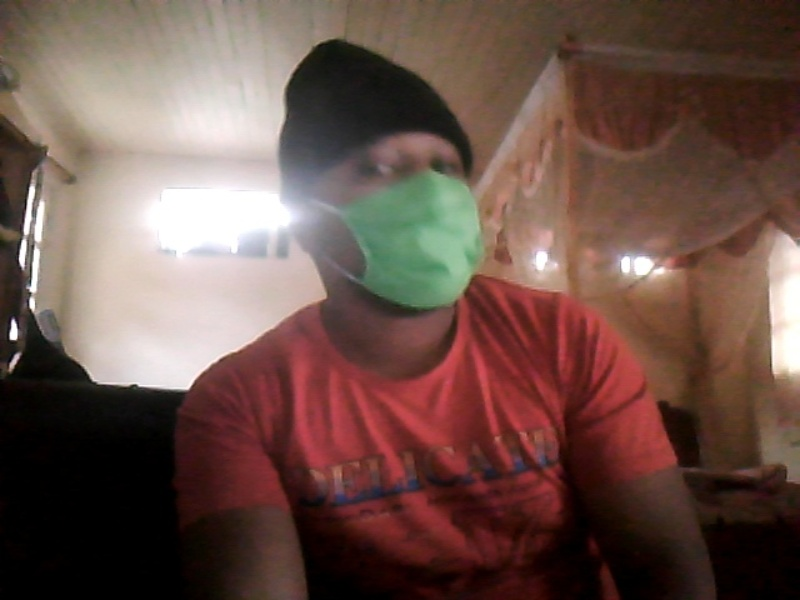ManaoArotava: (266, 45, 519, 318)
